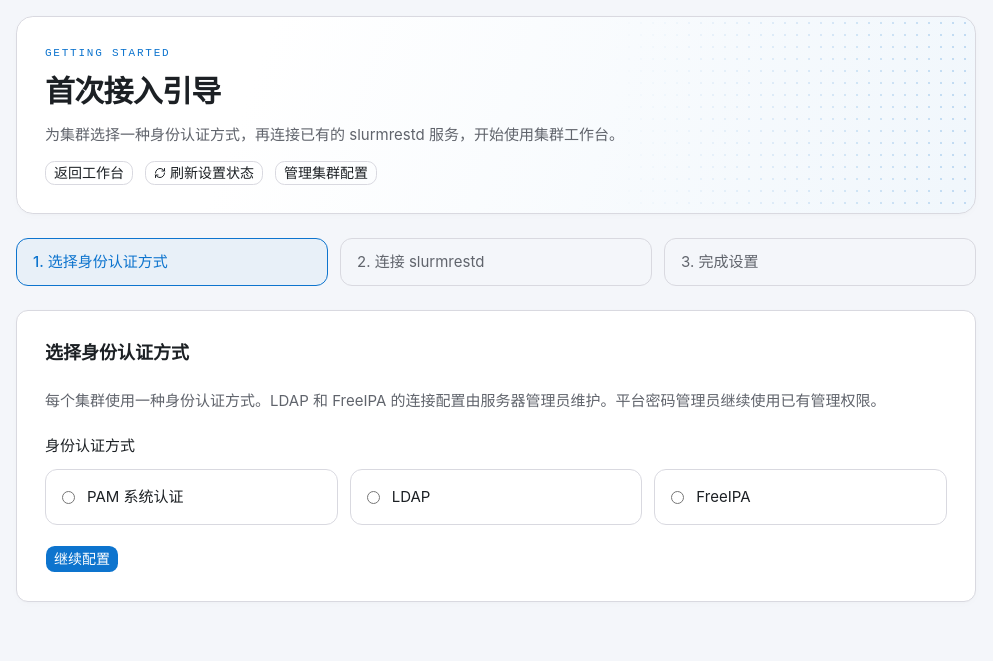
Test: requires an explicit single authentication choice before preparing a connection
Expected: the element "身份认证方式" is shown, 45,435 -> 947,525
Expected: the number of radio buttons is 3, 62,490 -> 75,504; 367,490 -> 380,504; 671,490 -> 684,504
Click the button "继续配置" at point(82, 559), box 45,545 -> 119,573
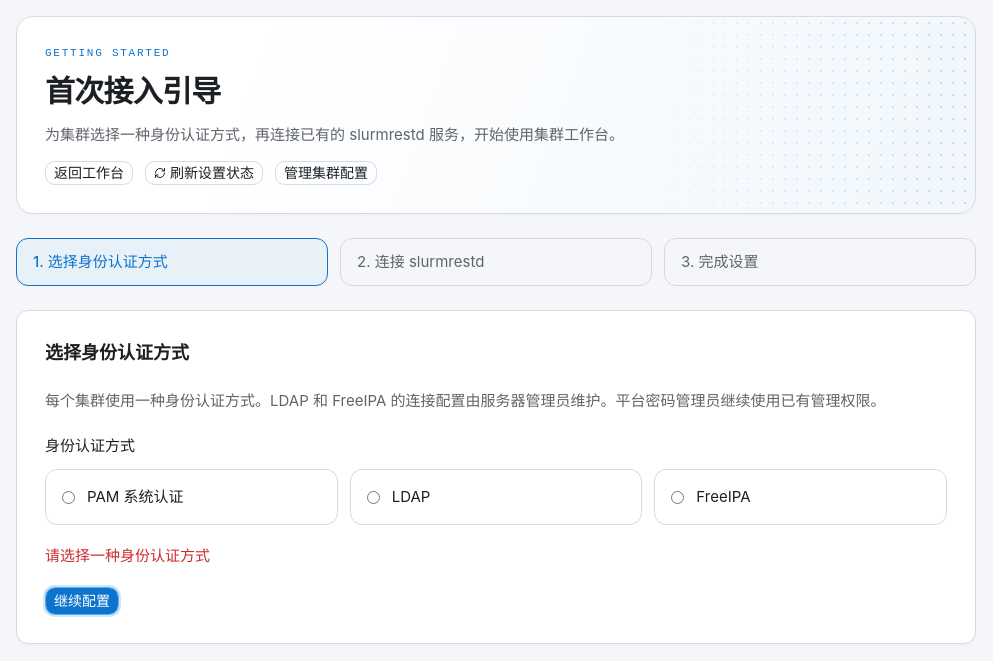
Expected: the message "请选择一种身份认证方式" is shown, 45,546 -> 210,565
